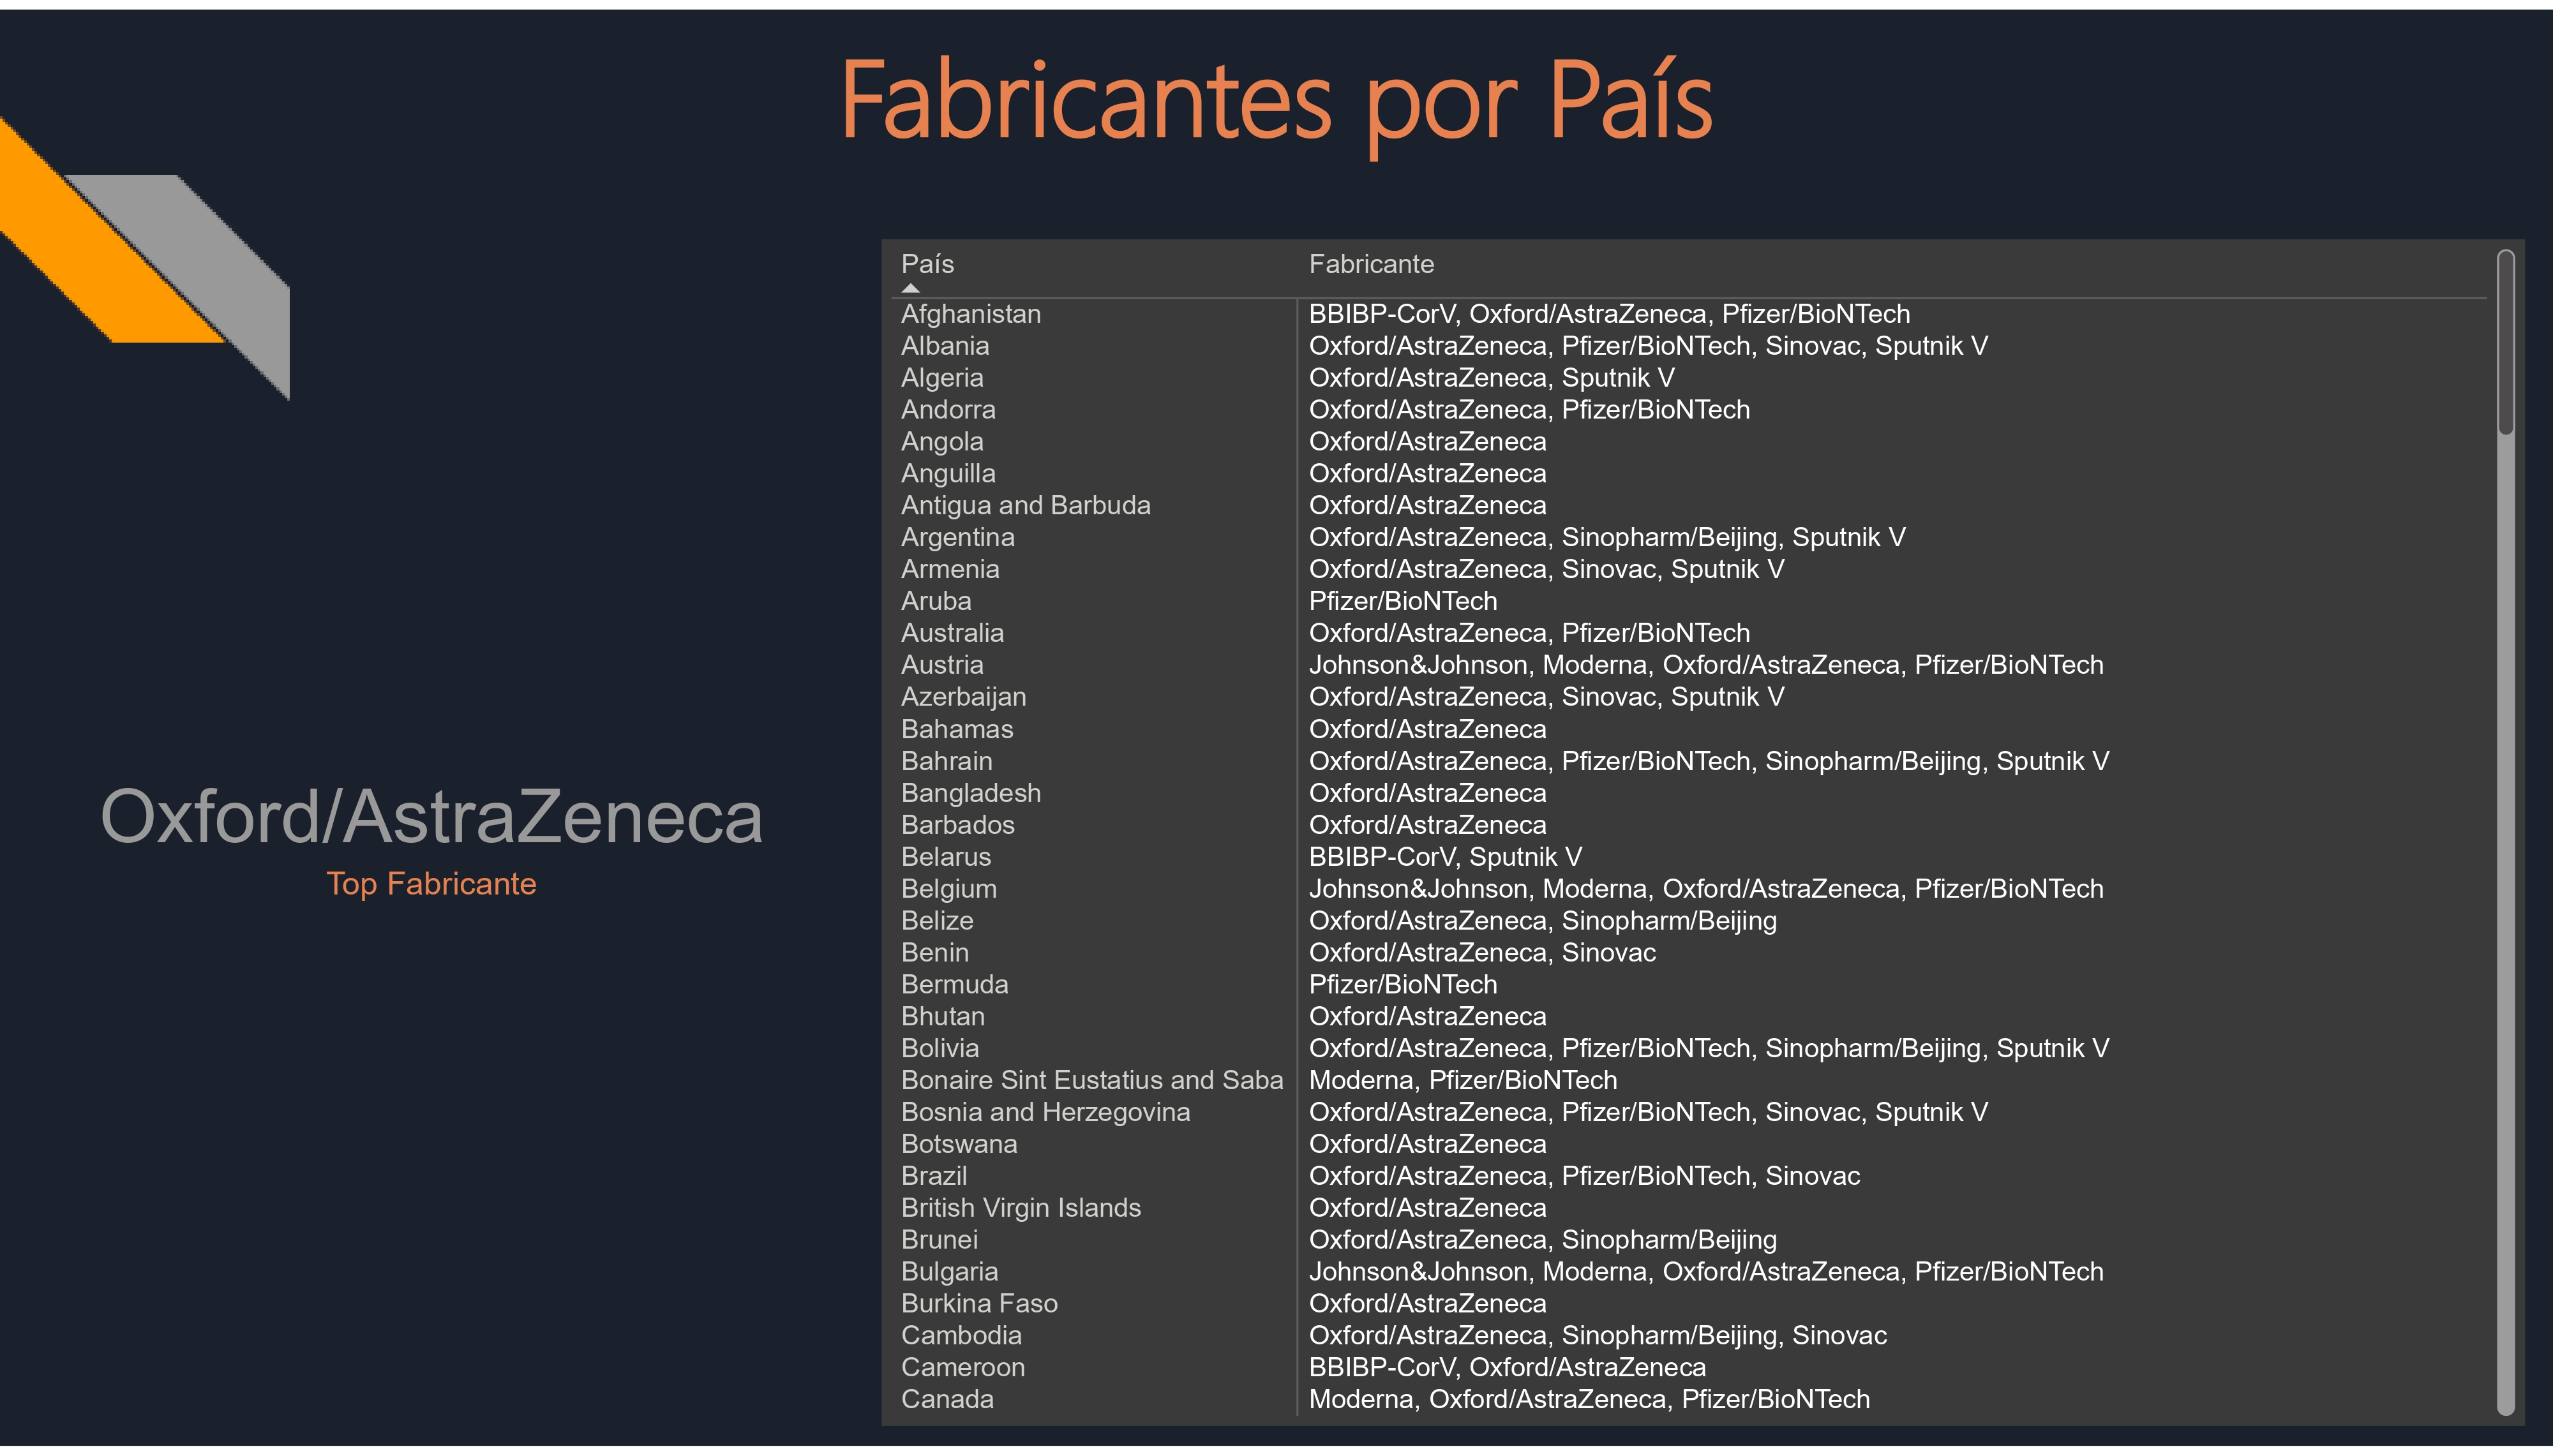

What the dashboard file says about the page in this screenshot:
{"tool":"powerbi","page":{"name":"Fabricantes por País","canvas":[1280,720],"ordinal":1},"visuals":[{"type":"pivotTable","fields":{"Values":["Min(Vacinação_por_Fabricante.Vacinas(Fabricante))"],"Rows":["Países.País"]},"box":[441.8,114.6,823.9,594.6],"z":0},{"type":"card","fields":{"Values":["Vacinação_por_Fabricante.Top Fabricante"]},"box":[44.2,360.6,345.1,101.5],"z":1000},{"type":"textbox","box":[0,0,1280,84.8],"z":2000}]}

Visuals, with their boxes in screenshot pixels (x1, y1, x2, y2), scaled from the page's 1280x720 canvas onto the 2553x1456 screenshot:
pivotTable - Min(Vacinação_por_Fabricante.Vacinas(Fabricante)) x Países.País: 881:232:2524:1434
card - Vacinação_por_Fabricante.Top Fabricante: 88:729:777:935
textbox: 0:0:2552:172
